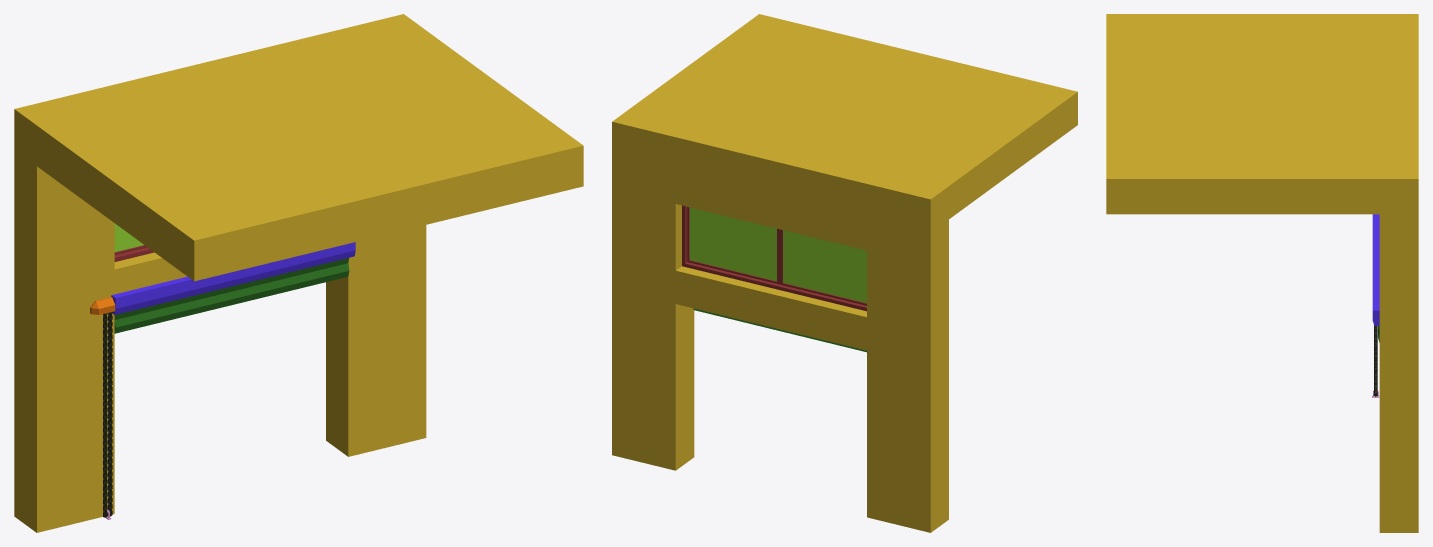
File: SM_Warehouse_Open_01.fbx
The picture shows the model from 3 angles, left to right: view 1: azimuth 30°, elevation 25°; view 2: azimuth 150°, elevation 25°; view 3: azimuth 270°, elevation 25°; orthographic projection. The views are drawn at different scales.
Visible parts, largest first — view 1: SM_Warehouse_Open_01; view 2: SM_Warehouse_Open_01; view 3: SM_Warehouse_Open_01.
Boxes of the visible parts, box(x1,y1,x2,y2) form: SM_Warehouse_Open_01: box(14, 14, 583, 532); SM_Warehouse_Open_01: box(612, 14, 1077, 532); SM_Warehouse_Open_01: box(1106, 14, 1418, 532).
Size of the model in its own units: 1000 by 1000 by 800.
